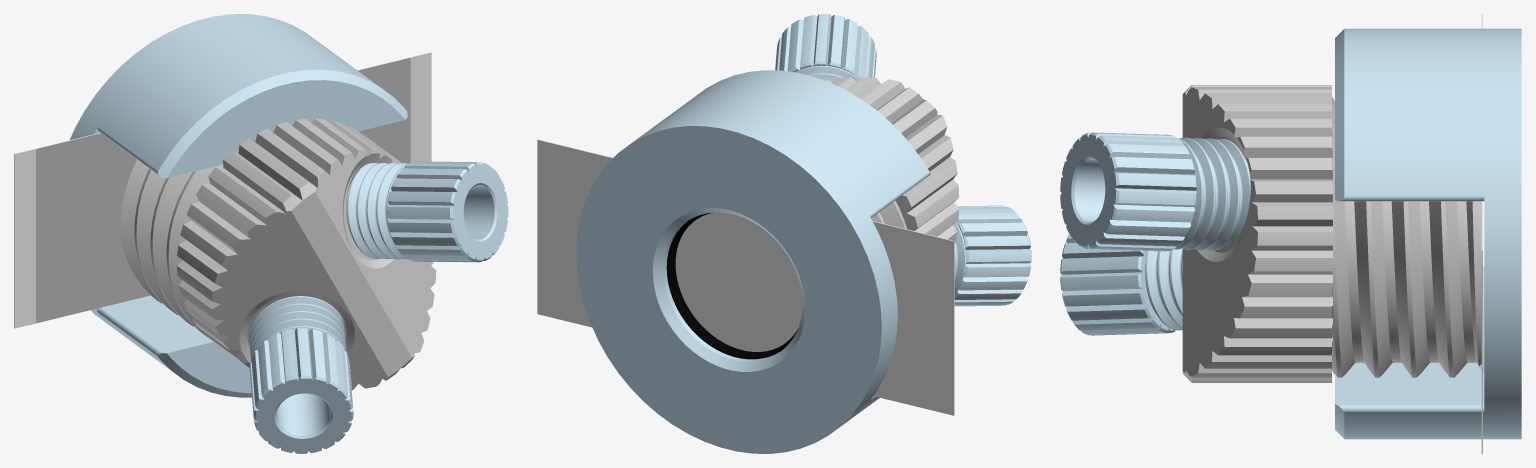
File: coverslip-cell.glb
The picture shows the model from 3 angles, left to right: view 1: azimuth 30°, elevation 25°; view 2: azimuth 150°, elevation 25°; view 3: azimuth 270°, elevation 25°; orthographic projection. The views are drawn at different scales.
Visible parts, largest first — view 1: Part 1 (×4), Part 2 (×2); view 2: Part 1 (×5), Part 2; view 3: Part 1 (×4), Part 2.
Part boxes in pixels (x1,y1,x2,y2): Part 1 (×4): (14,14,508,453); Part 2 (×2): (36,58,436,390); Part 1 (×5): (537,14,1031,453); Part 2: (823,77,959,243); Part 1 (×4): (1060,14,1521,453); Part 2: (1182,85,1481,382).
Size of the model in its own units: 0.06 by 0.0439 by 0.0494.
